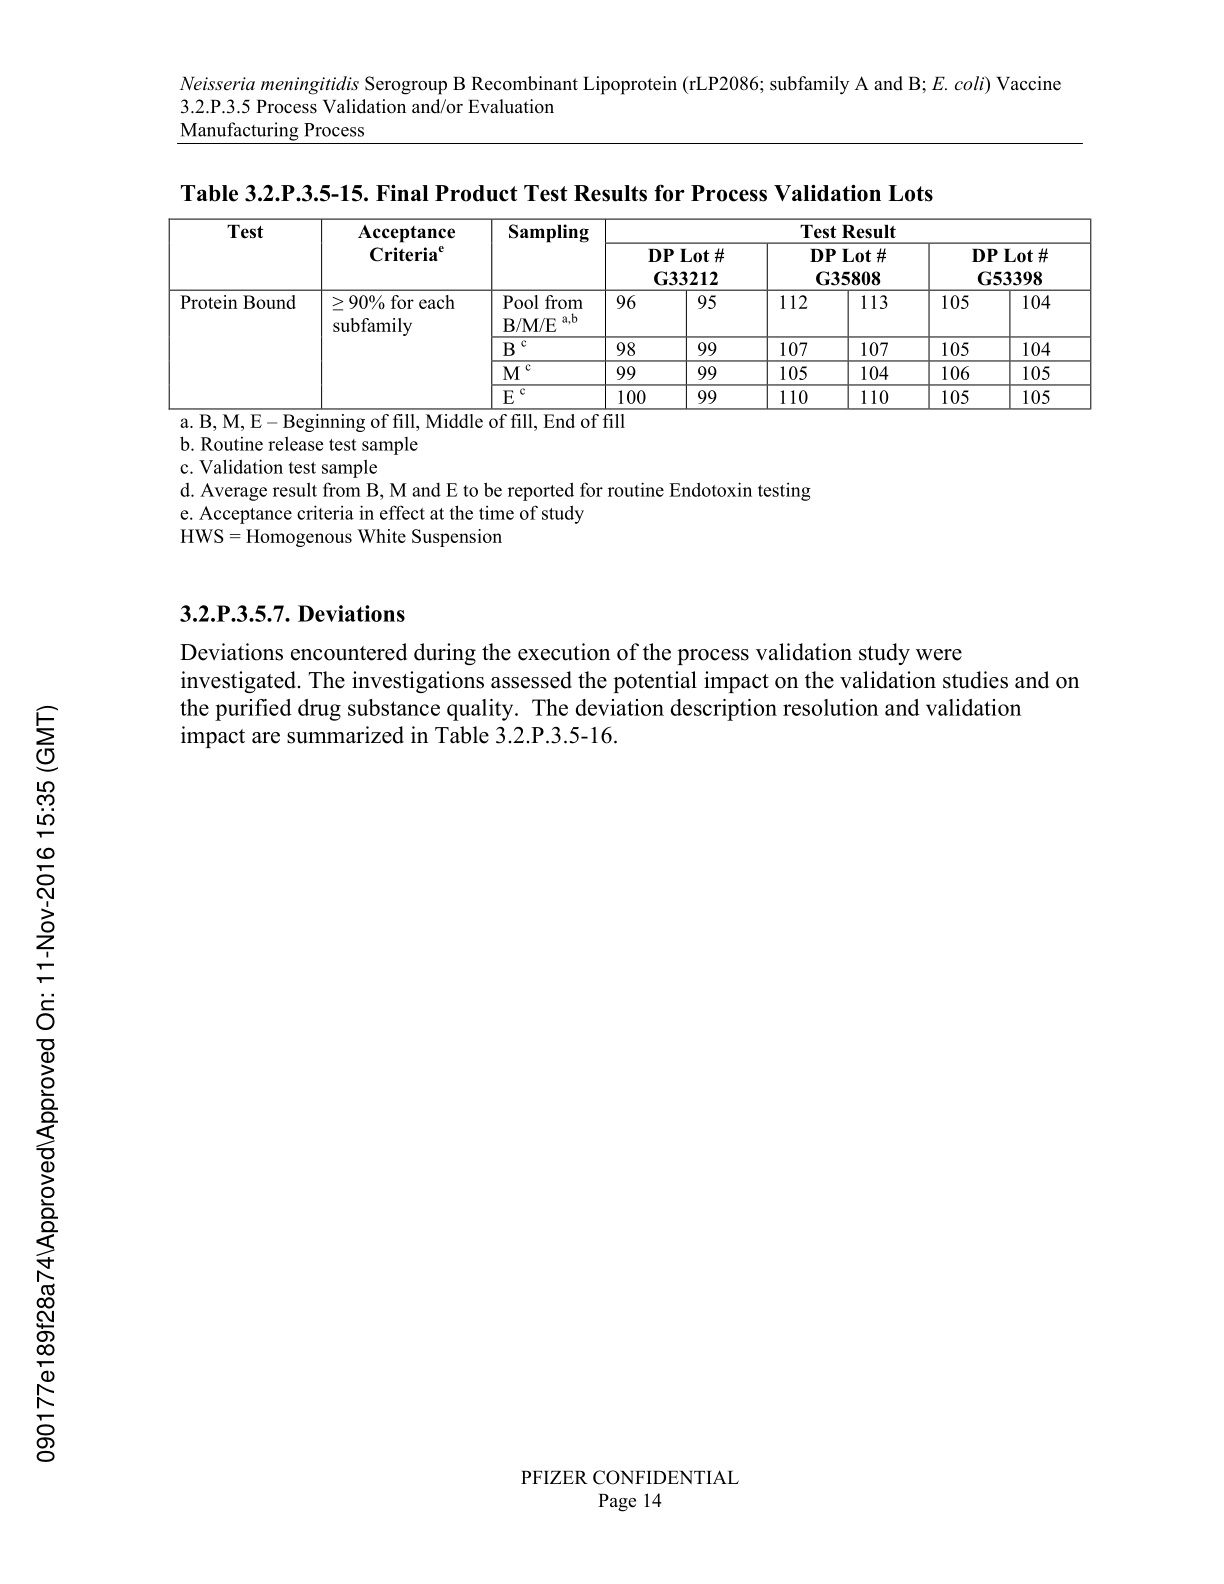merged_cells: (168, 219, 1092, 410)
